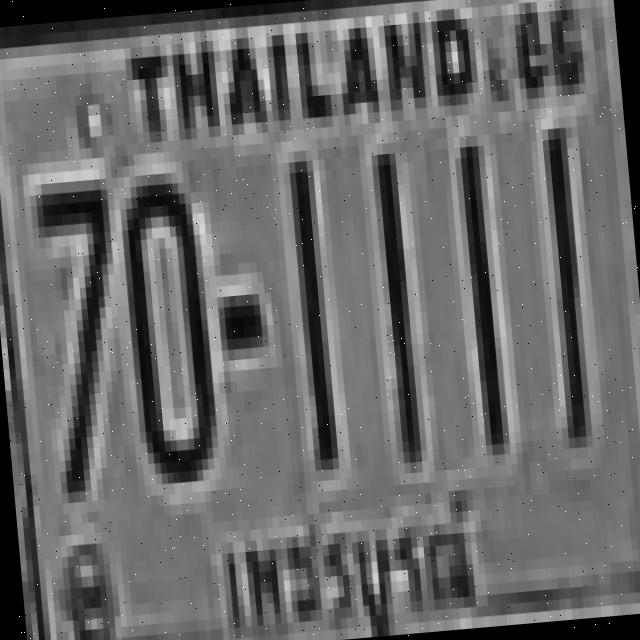0: (117, 170, 220, 474)
1: (544, 121, 595, 442), (377, 148, 427, 458), (288, 155, 338, 465), (456, 140, 506, 450)
7: (29, 178, 132, 493)
Phetchabun: (201, 477, 500, 640)
